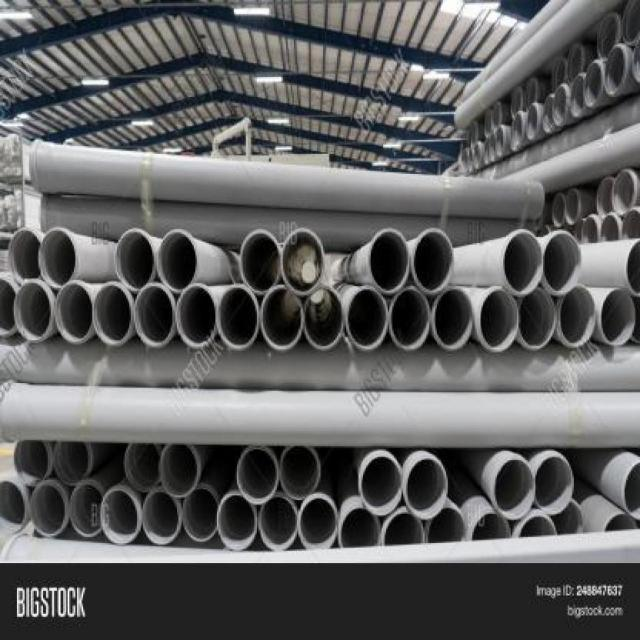pipe: (216, 284, 259, 352), (260, 285, 303, 353), (281, 229, 324, 296), (135, 283, 177, 350), (346, 285, 388, 352), (157, 229, 200, 294), (238, 229, 280, 294), (93, 280, 133, 347), (176, 283, 216, 350), (360, 455, 403, 516), (406, 459, 448, 521), (495, 459, 537, 521), (390, 286, 430, 351), (369, 230, 409, 293), (503, 232, 543, 295), (13, 279, 53, 342), (54, 281, 94, 344), (304, 286, 344, 349), (479, 289, 519, 352), (115, 229, 155, 291), (414, 231, 454, 293), (434, 289, 474, 351), (543, 232, 582, 294), (236, 447, 278, 504), (534, 456, 574, 515), (216, 494, 256, 551), (559, 286, 596, 347), (519, 288, 556, 349), (100, 489, 139, 546), (39, 229, 76, 289), (159, 443, 199, 497), (279, 446, 319, 500), (259, 496, 298, 551), (30, 482, 68, 537), (299, 497, 338, 550), (600, 289, 636, 346), (182, 487, 219, 542), (143, 491, 180, 545), (8, 229, 43, 285), (69, 483, 103, 537), (53, 440, 92, 487), (124, 443, 161, 492), (13, 440, 52, 485), (339, 507, 381, 547), (0, 478, 28, 534), (383, 511, 425, 547), (426, 507, 466, 543), (465, 514, 513, 541), (604, 43, 627, 96), (514, 512, 559, 539), (621, 458, 640, 521), (612, 169, 637, 215), (0, 275, 18, 336), (597, 13, 619, 62), (584, 59, 603, 107), (596, 177, 616, 220), (570, 74, 587, 118), (603, 512, 640, 532), (566, 42, 583, 85), (552, 83, 568, 126), (551, 55, 567, 94), (564, 188, 580, 225), (622, 206, 639, 240), (524, 76, 540, 112), (542, 94, 556, 135), (580, 216, 602, 242), (600, 213, 619, 242), (527, 102, 540, 141), (552, 192, 566, 228), (511, 85, 523, 119), (513, 112, 524, 146), (495, 124, 505, 158), (492, 102, 503, 131), (488, 132, 496, 163), (484, 108, 492, 137), (474, 142, 482, 170), (471, 121, 479, 147)
